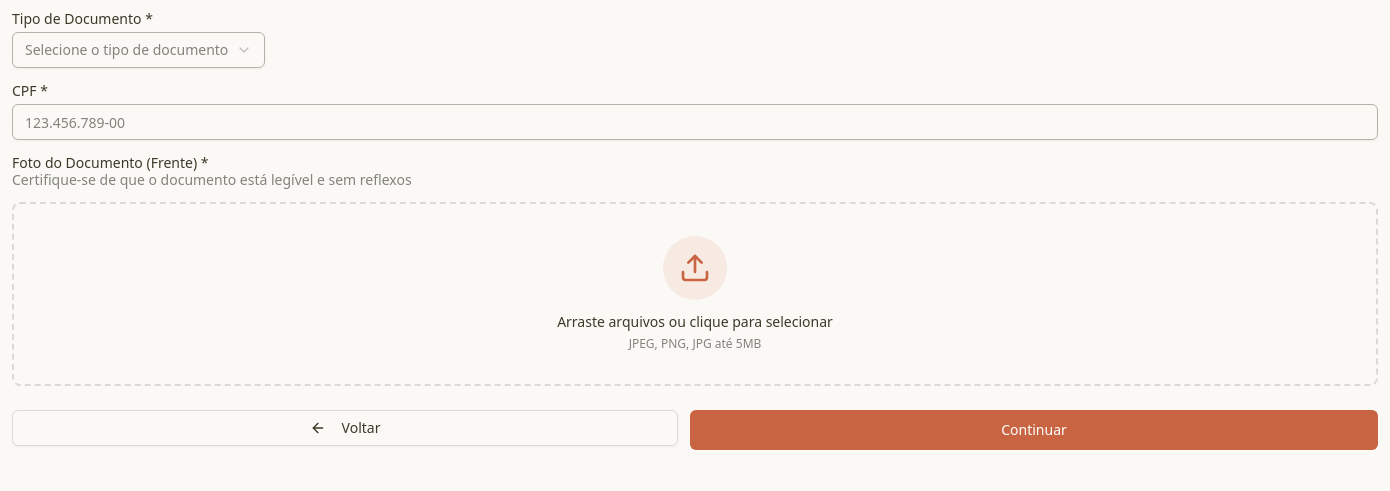
it: IdentityStep › should validate CPF format
The width and height of the screenshot is (1390, 491).
Select document type
Click the dropdown at (139, 50), box [12, 32, 265, 68]
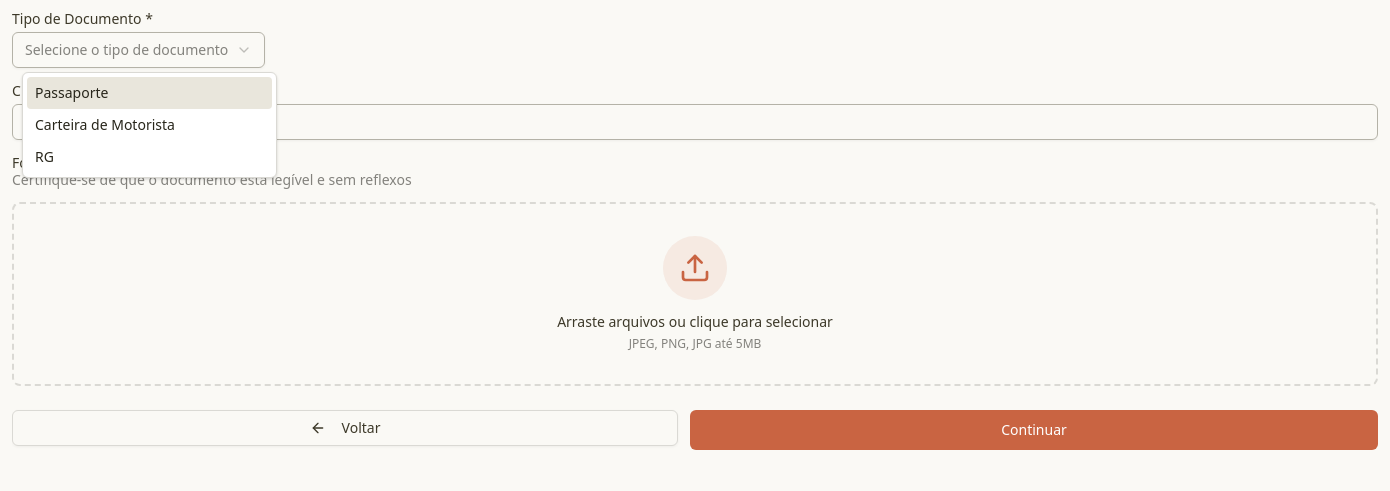
Click the option "Passaporte" at (150, 93), box [27, 77, 272, 109]
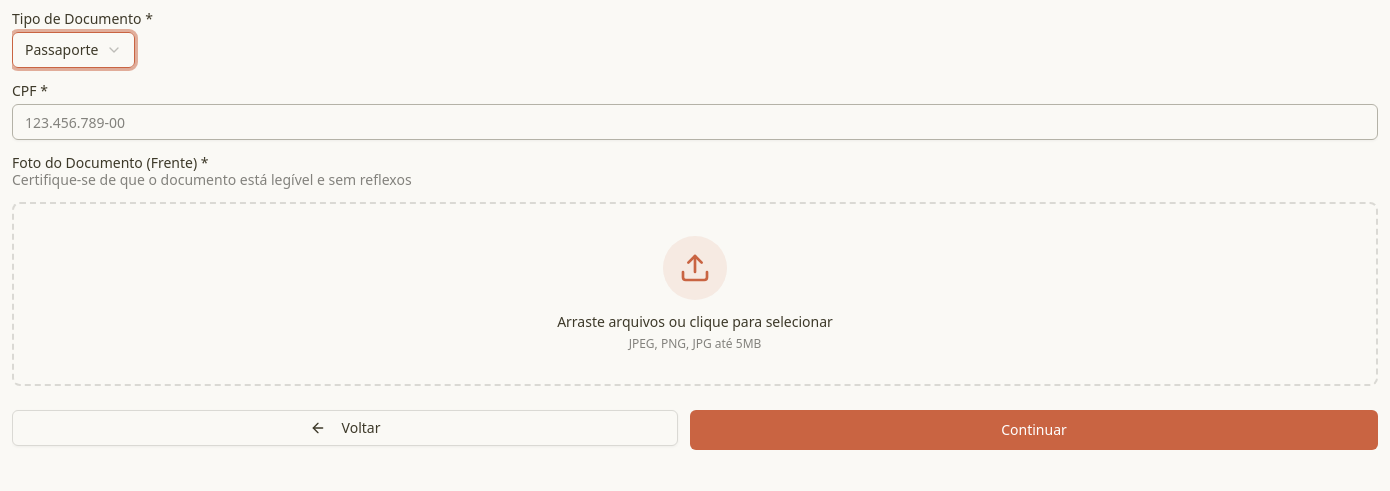
Enter invalid CPF
Type "123" into the field labelled "CPF *" at (695, 122), box [12, 104, 1378, 140]
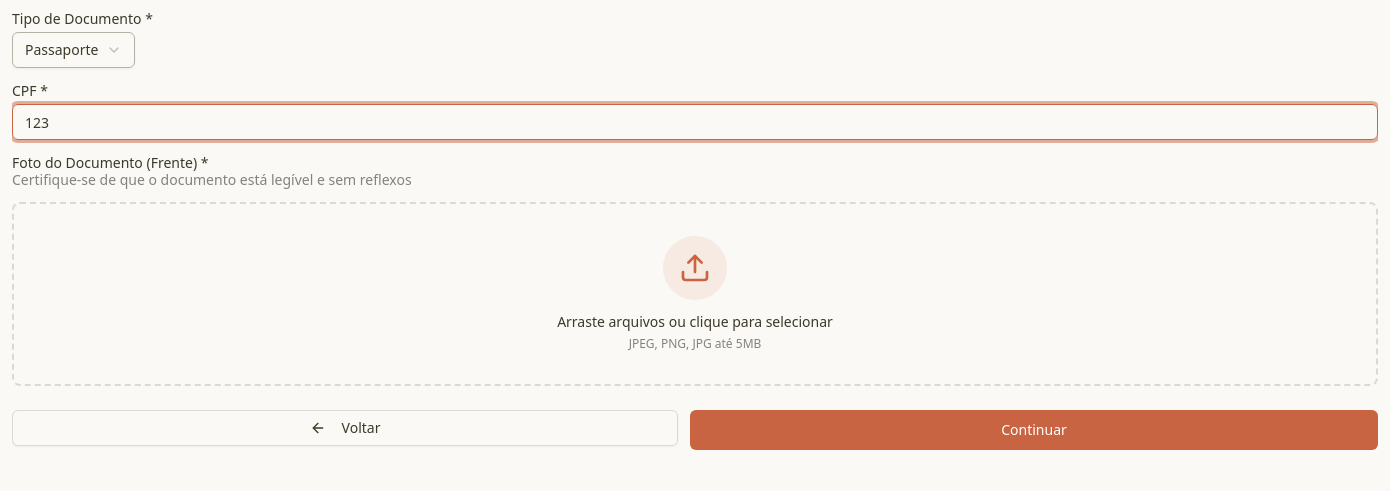
Submit form
Click the button "Continuar" at (1034, 430), box [690, 410, 1378, 450]
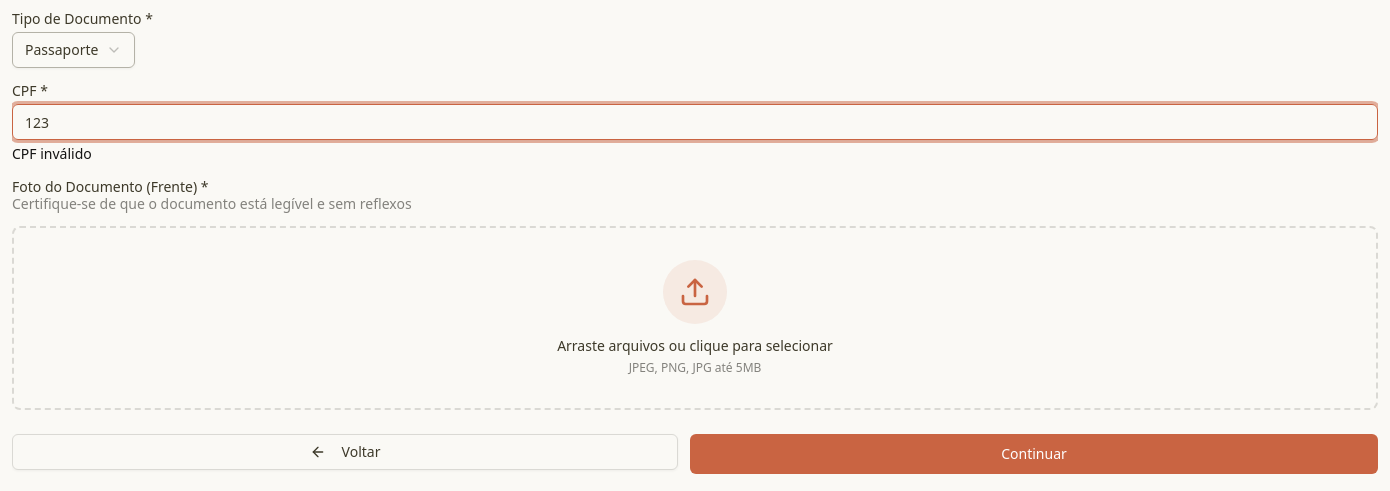
Expected: the text "CPF inválido" is shown, [12, 144, 92, 163]
